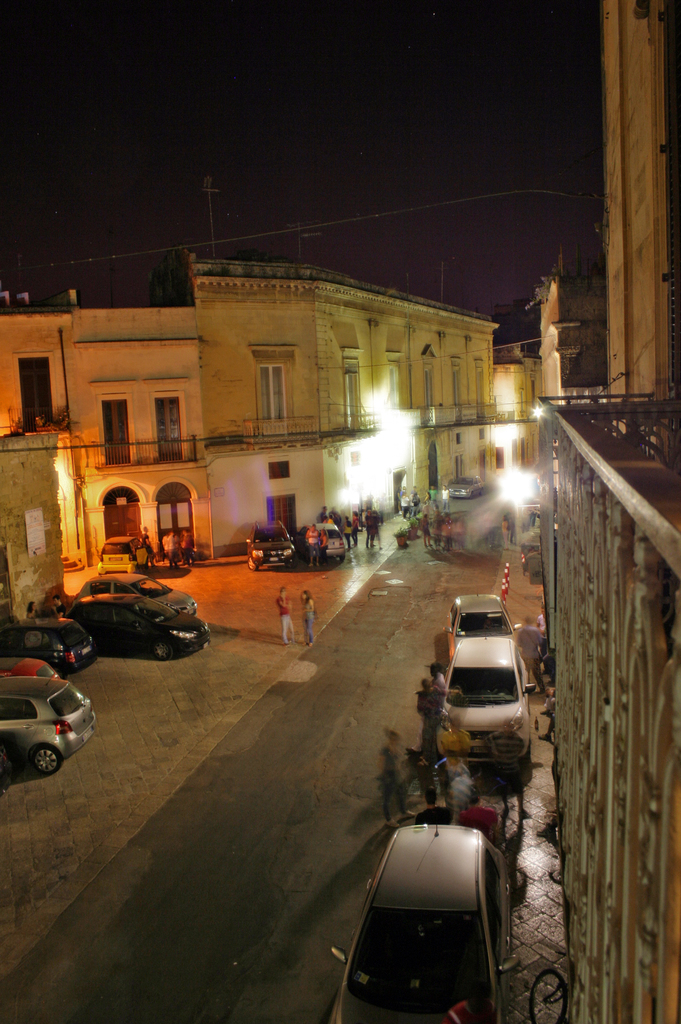car: (353, 812, 518, 1021), (426, 640, 542, 767), (0, 676, 120, 779), (56, 593, 214, 663), (439, 584, 522, 664), (77, 567, 203, 618), (2, 615, 103, 671), (229, 509, 302, 580), (0, 655, 73, 705), (302, 513, 353, 572), (91, 533, 152, 580), (436, 470, 491, 503)
